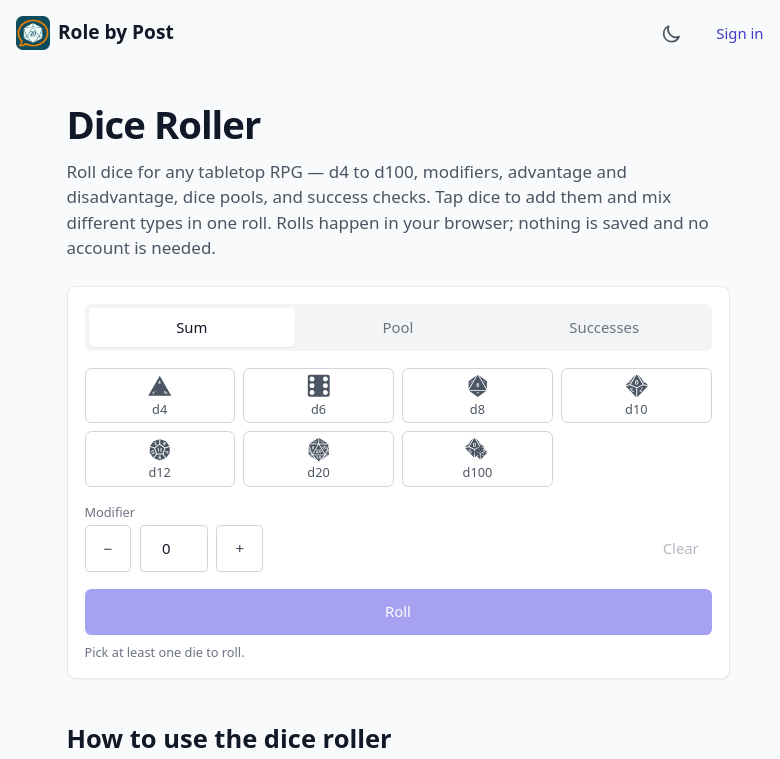
Test case: DiceRollerPage › disables pool modes while several die types are selected
This screenshot has width=780, height=759.
Step 1. Click the button named "Add d6" → (319,395), box [243, 368, 394, 423]
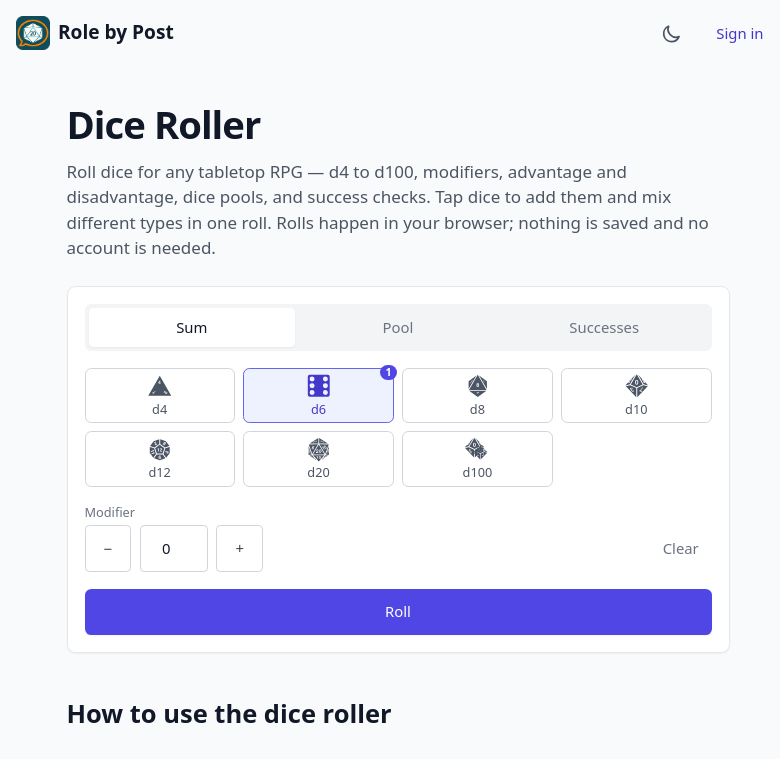
Step 2. Click the button "d8" → (478,395), box [402, 368, 553, 423]
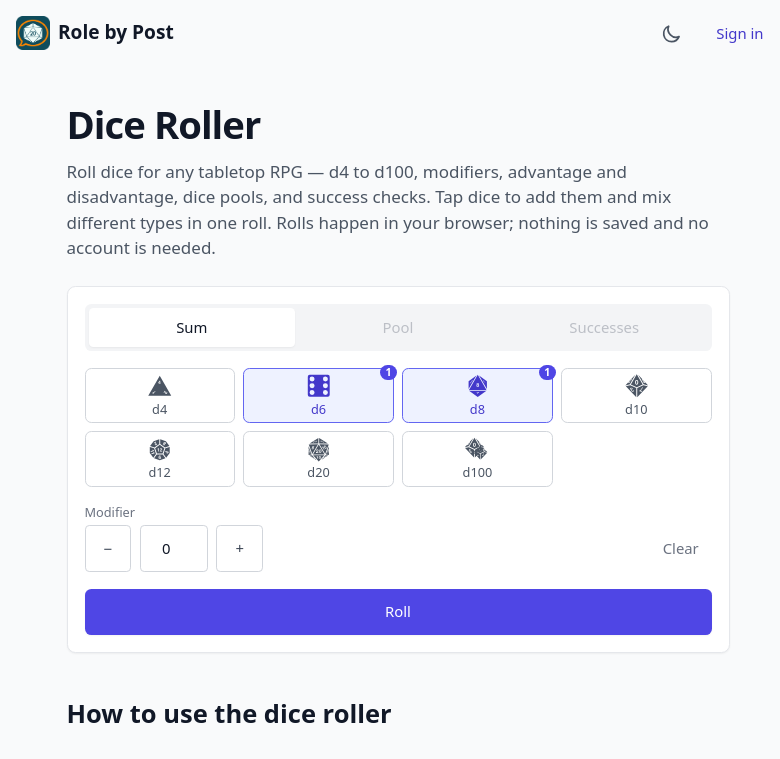
Expected: the button "Pool" is disabled, [295, 308, 501, 347]
Expected: the button "Successes" is disabled, [501, 308, 707, 347]
